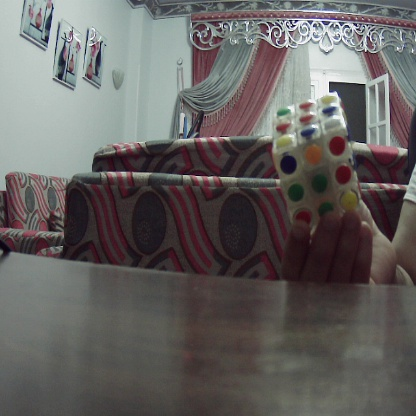Rubix Cube: (272, 100, 364, 225)
